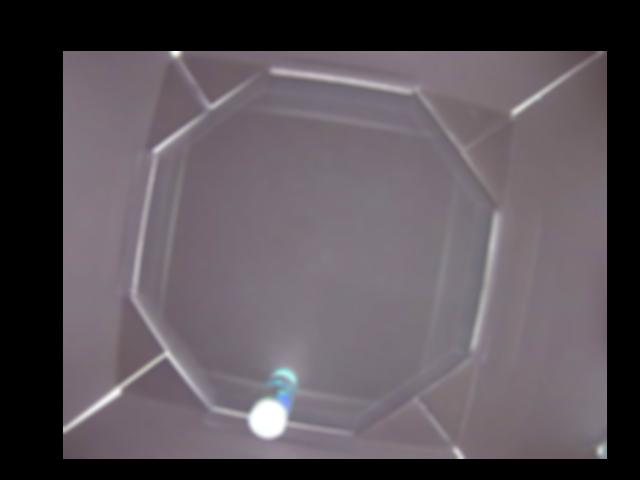Medicine: (247, 369, 296, 438)
